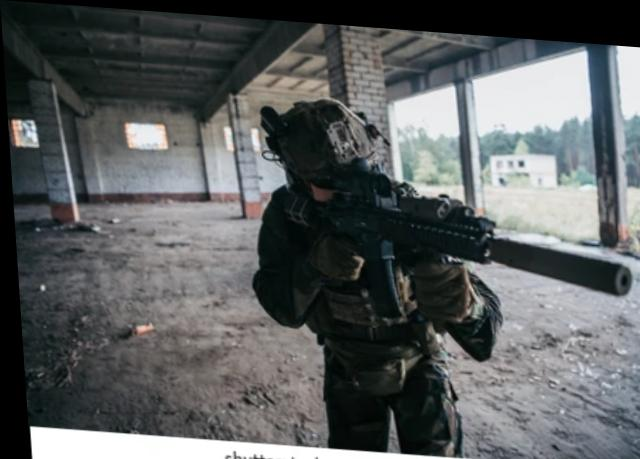other: (250, 108, 497, 441)
